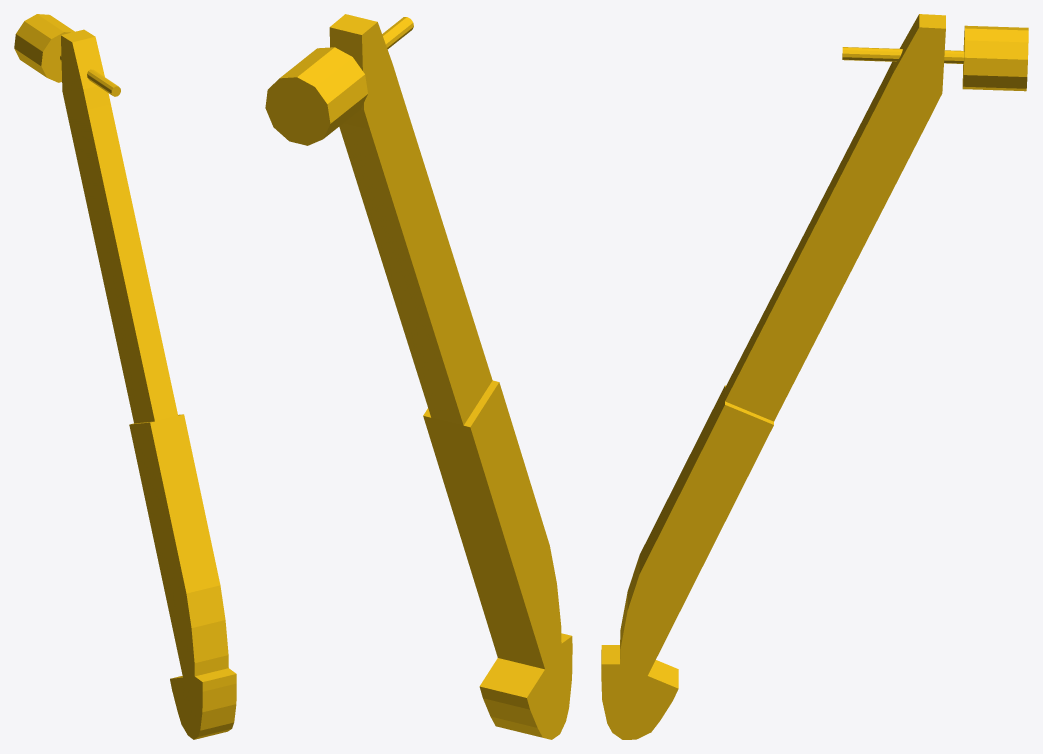
Rendered from key_repetition_lever.obj.
3 views of the same model, side by side, from view 1: azimuth 30°, elevation 25°; view 2: azimuth 150°, elevation 25°; view 3: azimuth 270°, elevation 25° (orthographic). The views are drawn at different scales.
Visible parts, largest first — view 1: white_keys.005_Cube.006; view 2: white_keys.005_Cube.006; view 3: white_keys.005_Cube.006.
Part boxes in pixels (x1=…): white_keys.005_Cube.006: x1=14, y1=14, x2=236, y2=739; white_keys.005_Cube.006: x1=265, y1=14, x2=572, y2=739; white_keys.005_Cube.006: x1=601, y1=14, x2=1028, y2=739.
Size of the model in its own units: 0.00976 by 0.1203 by 0.0657.
